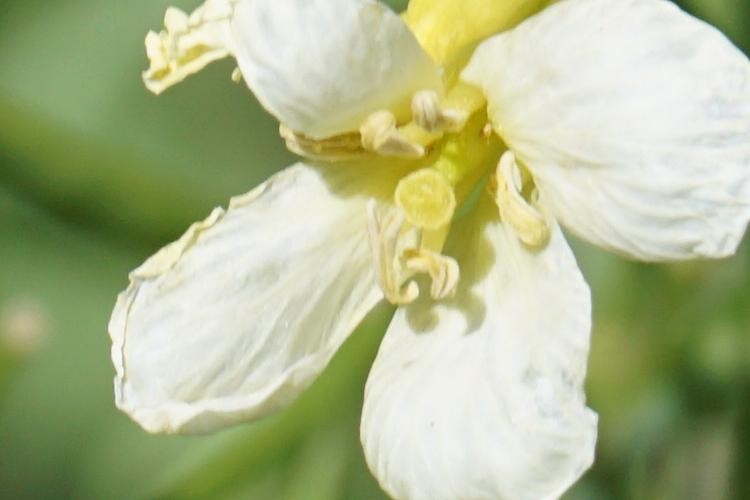white: (126, 18, 726, 463)
